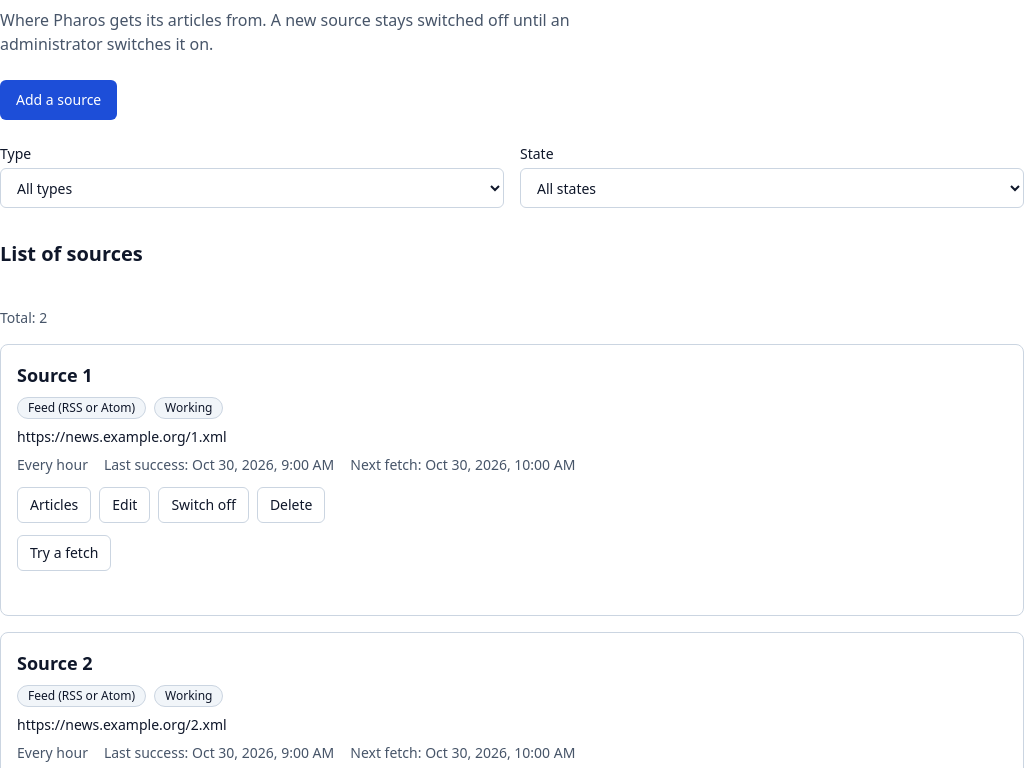
Test: adding › tells a conflict for the whole form
The width and height of the screenshot is (1024, 768).
Click the button "Add a source" at (59, 100), box [0,80,117,120]
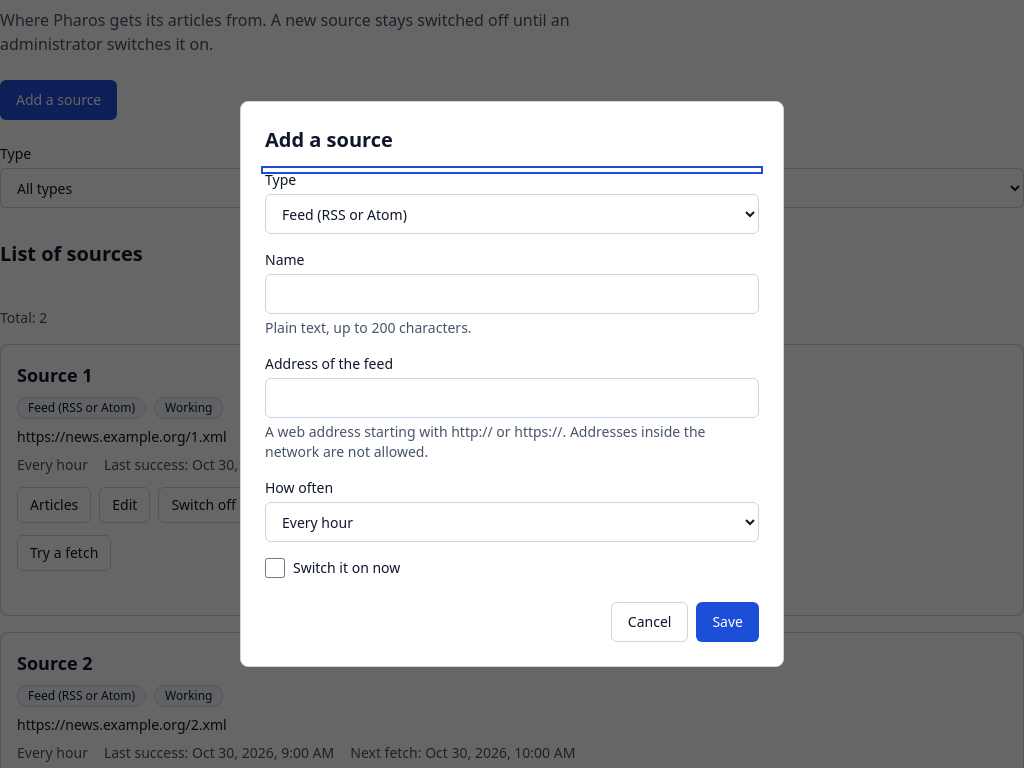
Type "Fresh" into the field labelled "Name" at (512, 294), box [265,274,759,314]
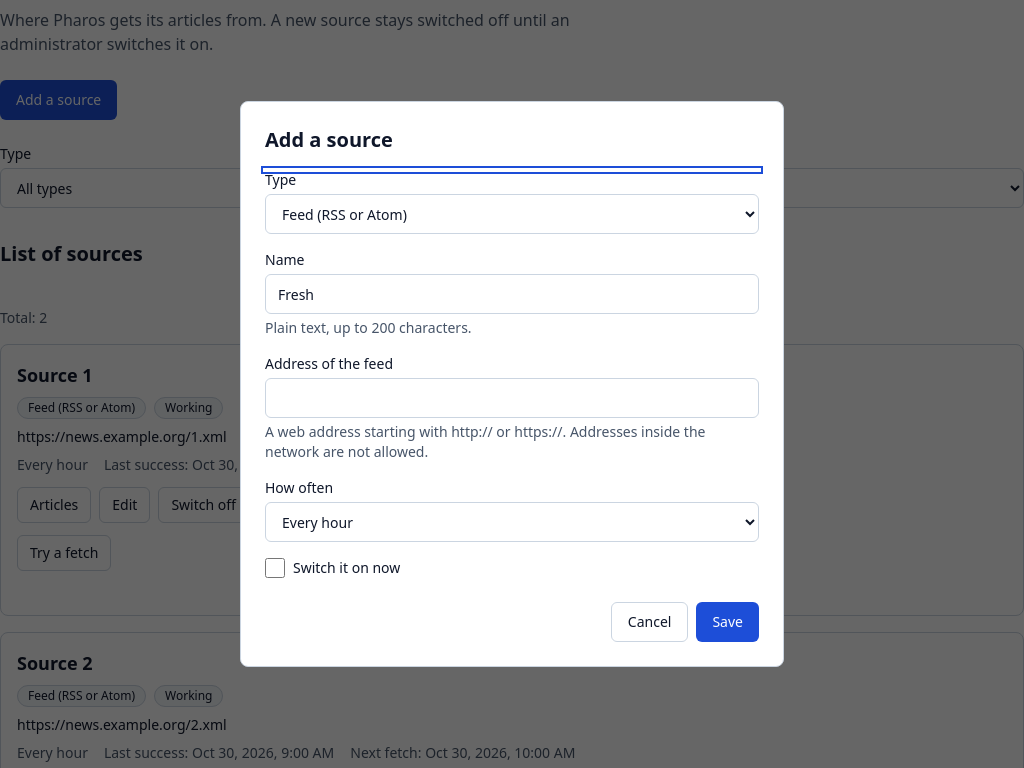
Type "https://fresh.example.org/feed.xml" into the field labelled "Address of the feed" at (512, 398), box [265,378,759,418]
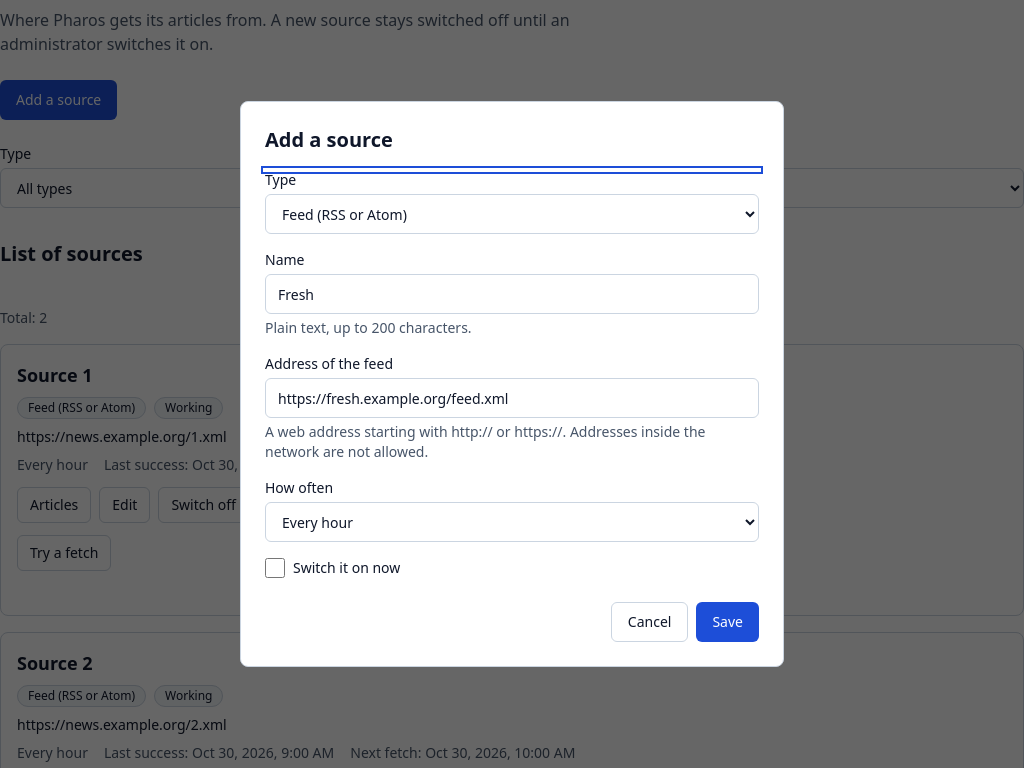
Click the button "Save" at (728, 622), box [696,602,759,642]
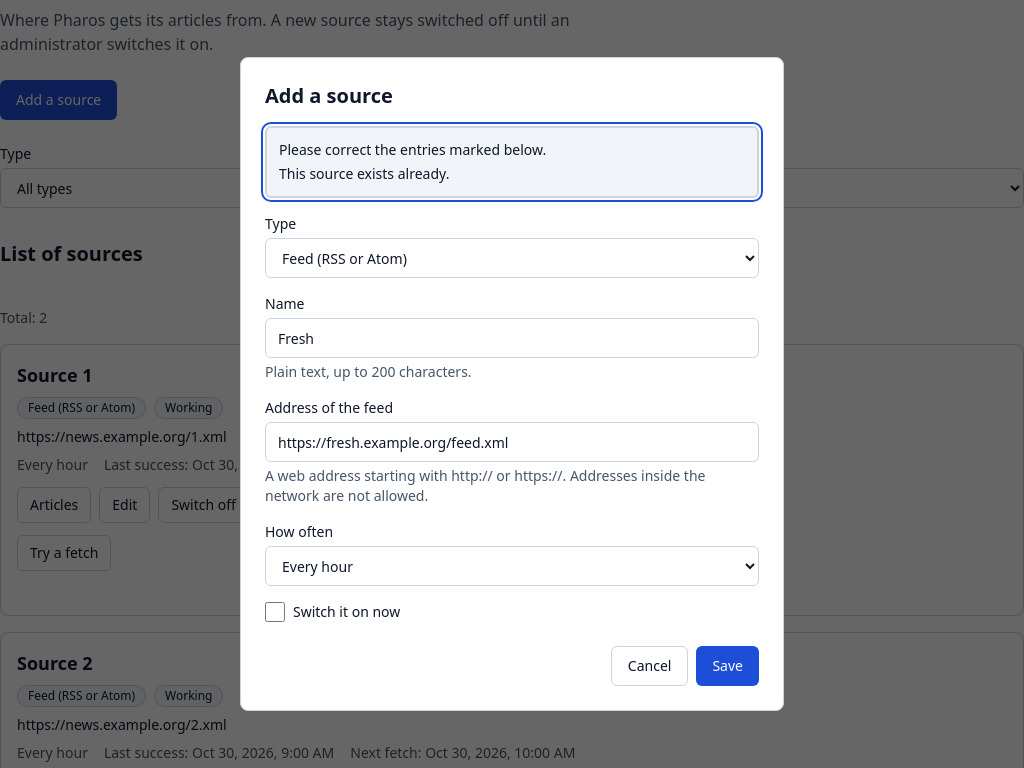
Expected: the text "This source exists already." is shown, [279,164,449,183]
